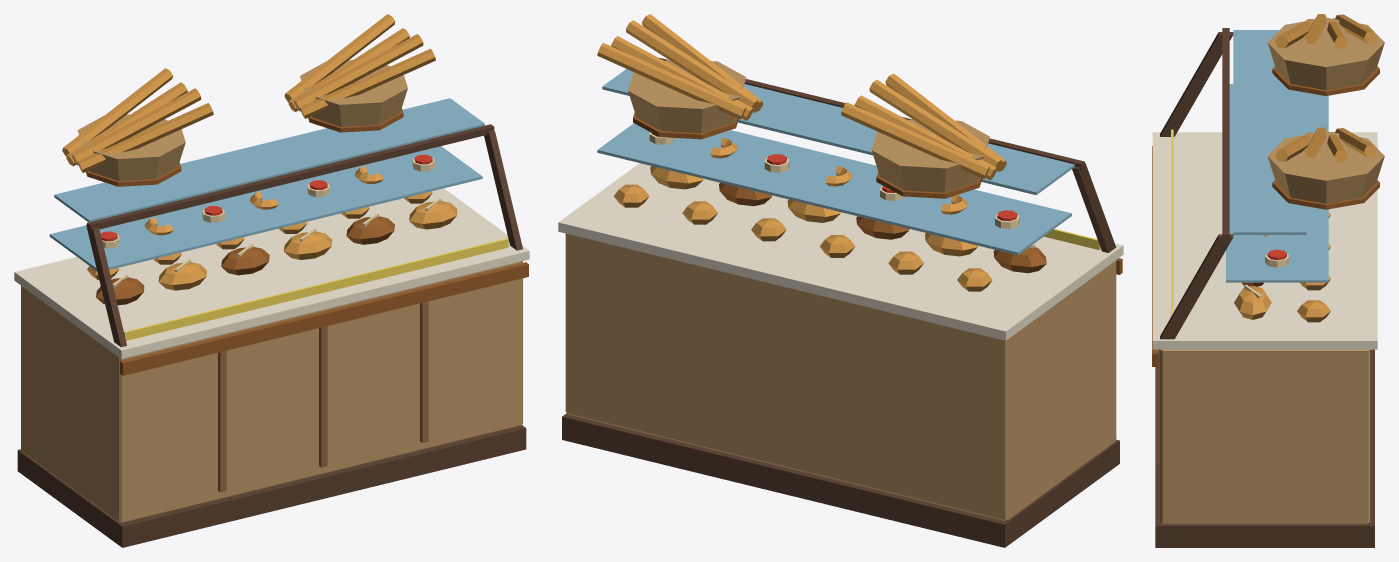
The model's file is Bakery_Counter_Glass.glb.
3 views of the same model, side by side, from view 1: azimuth 30°, elevation 25°; view 2: azimuth 150°, elevation 25°; view 3: azimuth 270°, elevation 25° (orthographic). The views are drawn at different scales.
Parts seen in each view (by area): view 1: Bakery_Counter_Glass; view 2: Bakery_Counter_Glass; view 3: Bakery_Counter_Glass.
Part boxes in pixels (x1,y1,x2,y2): Bakery_Counter_Glass: (14, 14, 529, 547); Bakery_Counter_Glass: (558, 14, 1123, 547); Bakery_Counter_Glass: (1152, 14, 1384, 547).
Size of the model in its own units: 2.02 by 1.74 by 0.9525.
1 material, 1 textured.
